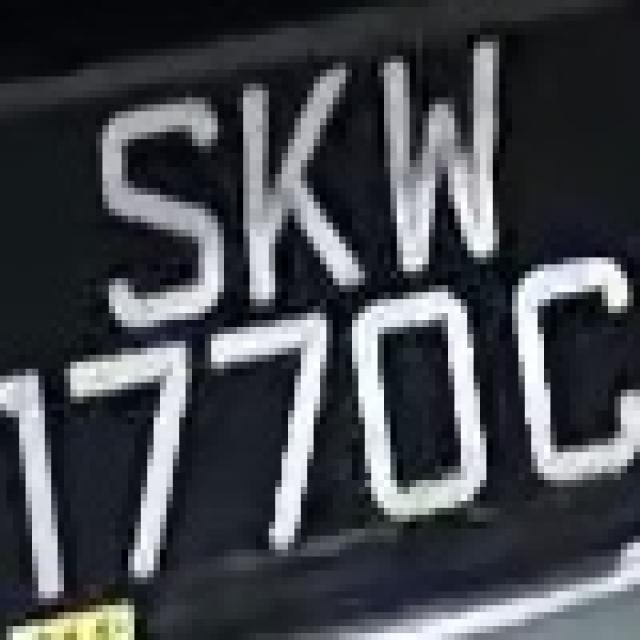0: (333, 278, 499, 536)
1: (13, 348, 77, 626)
7: (192, 292, 346, 564), (51, 334, 211, 591)
C: (506, 252, 640, 488), (5, 2, 6, 6)
K: (230, 42, 365, 313)
S: (90, 69, 236, 348)
W: (352, 35, 512, 285)
